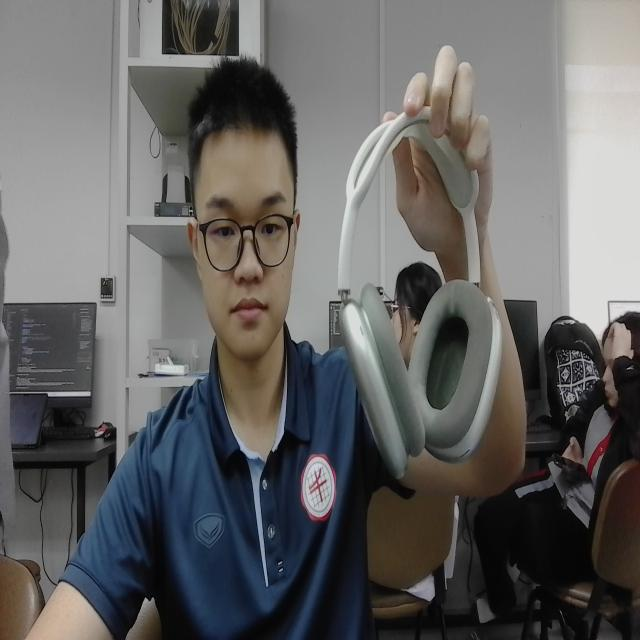airpods max: (315, 93, 520, 494)
